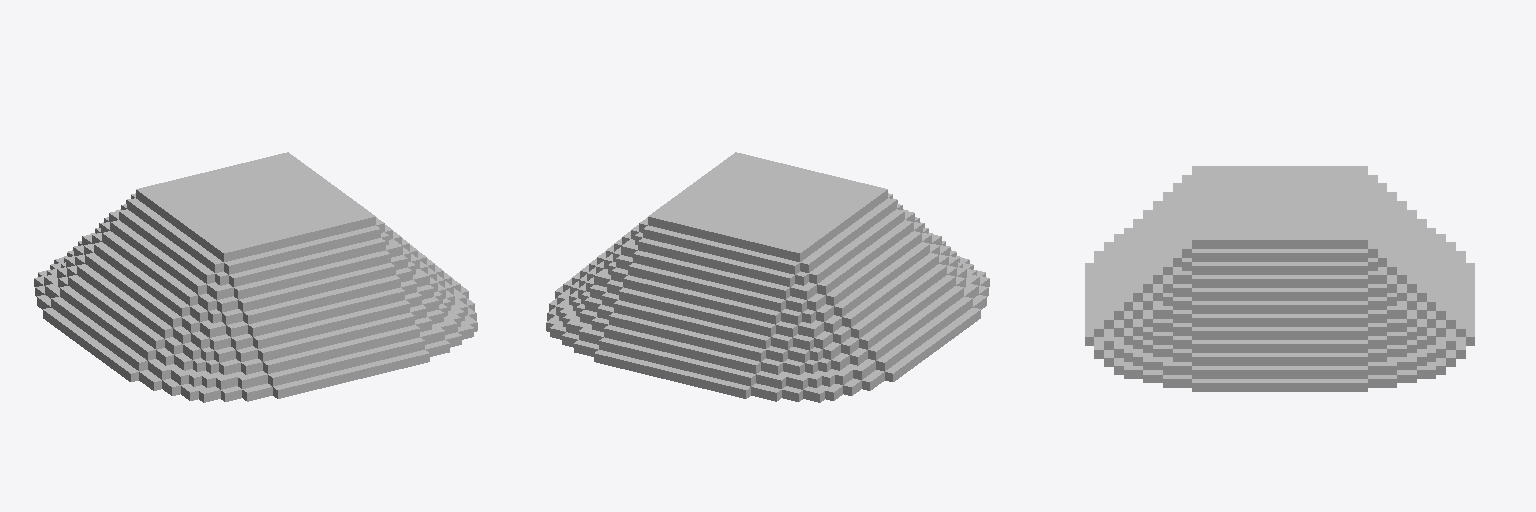
File: Office Boss Base.obj
3 views of the same model, side by side, from view 1: azimuth 30°, elevation 25°; view 2: azimuth 150°, elevation 25°; view 3: azimuth 270°, elevation 25° (orthographic).
Parts seen in each view (by area): view 1: object 1; view 2: object 1; view 3: object 1.
Boxes of the visible parts, x1,y1,x2,y2 form: object 1: [34, 152, 477, 402]; object 1: [546, 152, 989, 402]; object 1: [1085, 166, 1474, 391].
Size of the model in its own units: 4 by 1.2 by 4.